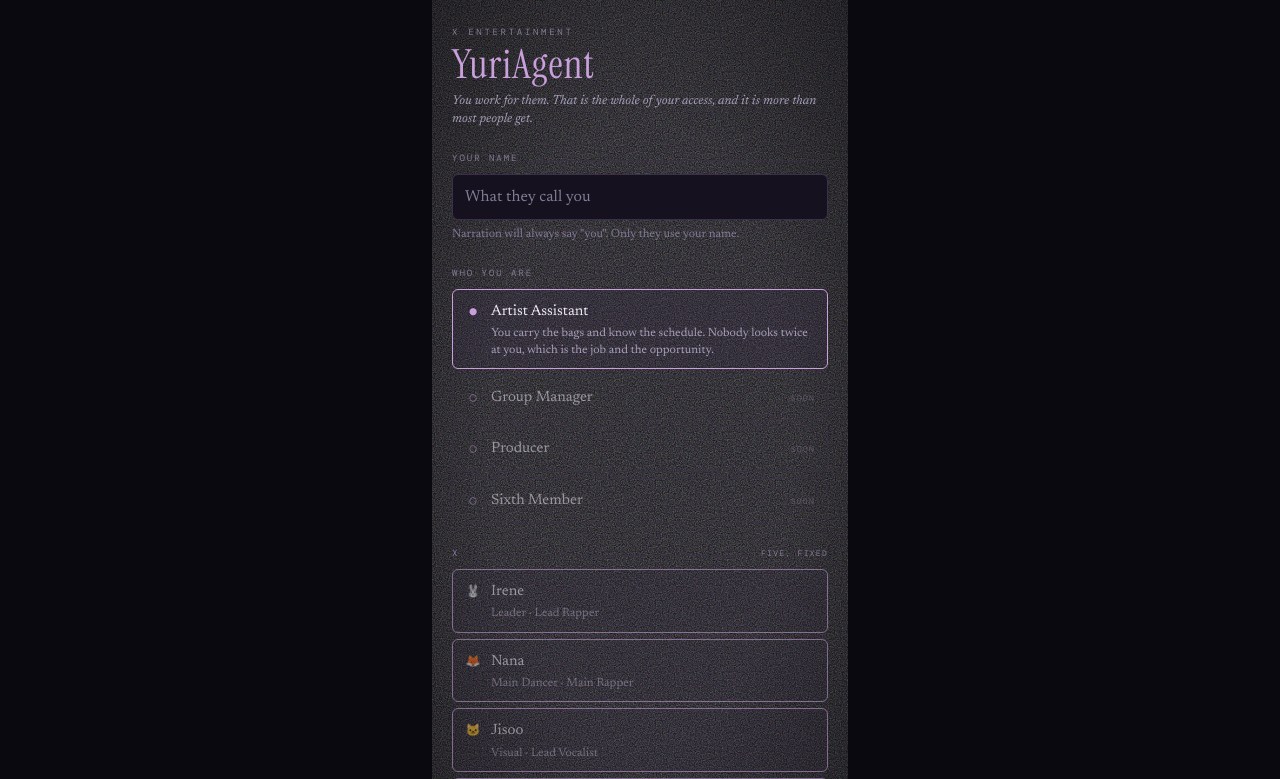
Scenario: starting a run › offers the notes from the day screen, and they open
Type "Yuhan" into the field at (640, 197), box left=452, top=174, right=828, bottom=220
(page scrolled)
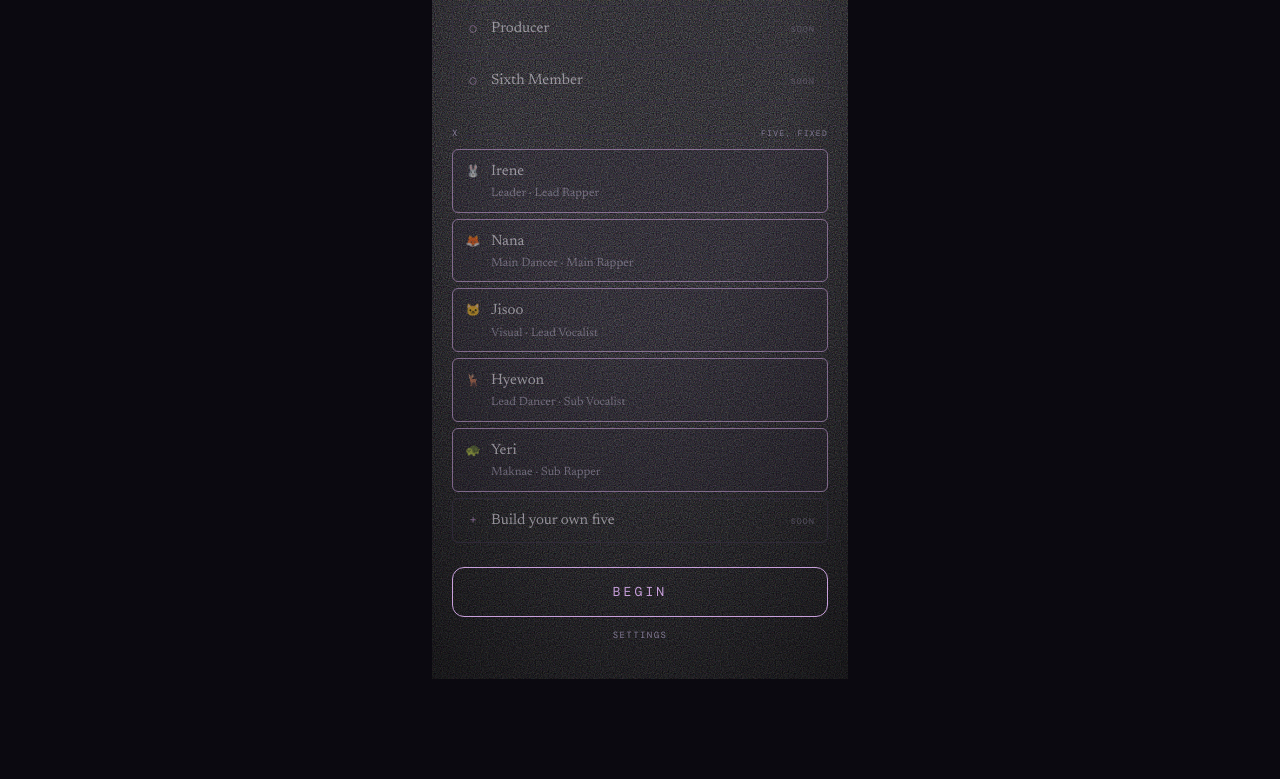
Click the button "Begin" at (640, 592), box left=452, top=567, right=828, bottom=617
(page scrolled)
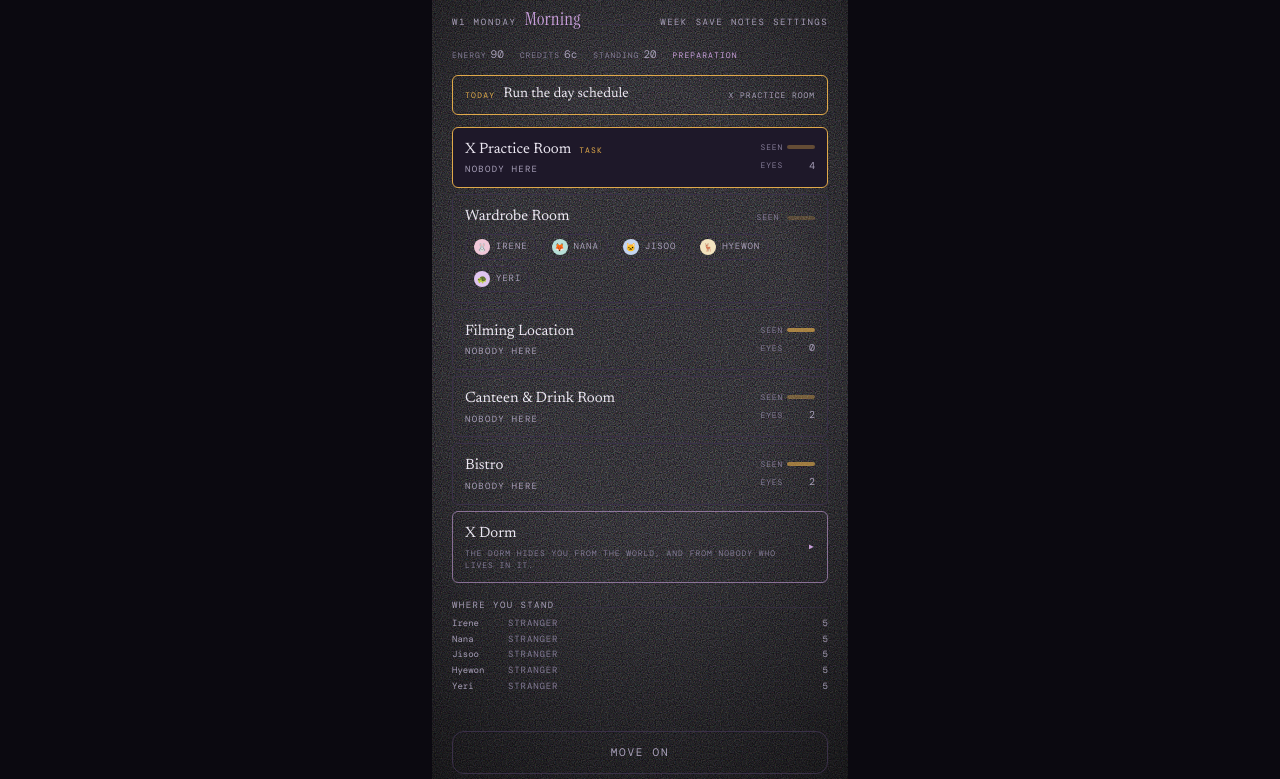
Now the button "Week" is shown, box left=660, top=16, right=688, bottom=30
Now the button "notes" is shown
Click the button "notes" at (748, 23), box left=731, top=16, right=765, bottom=30
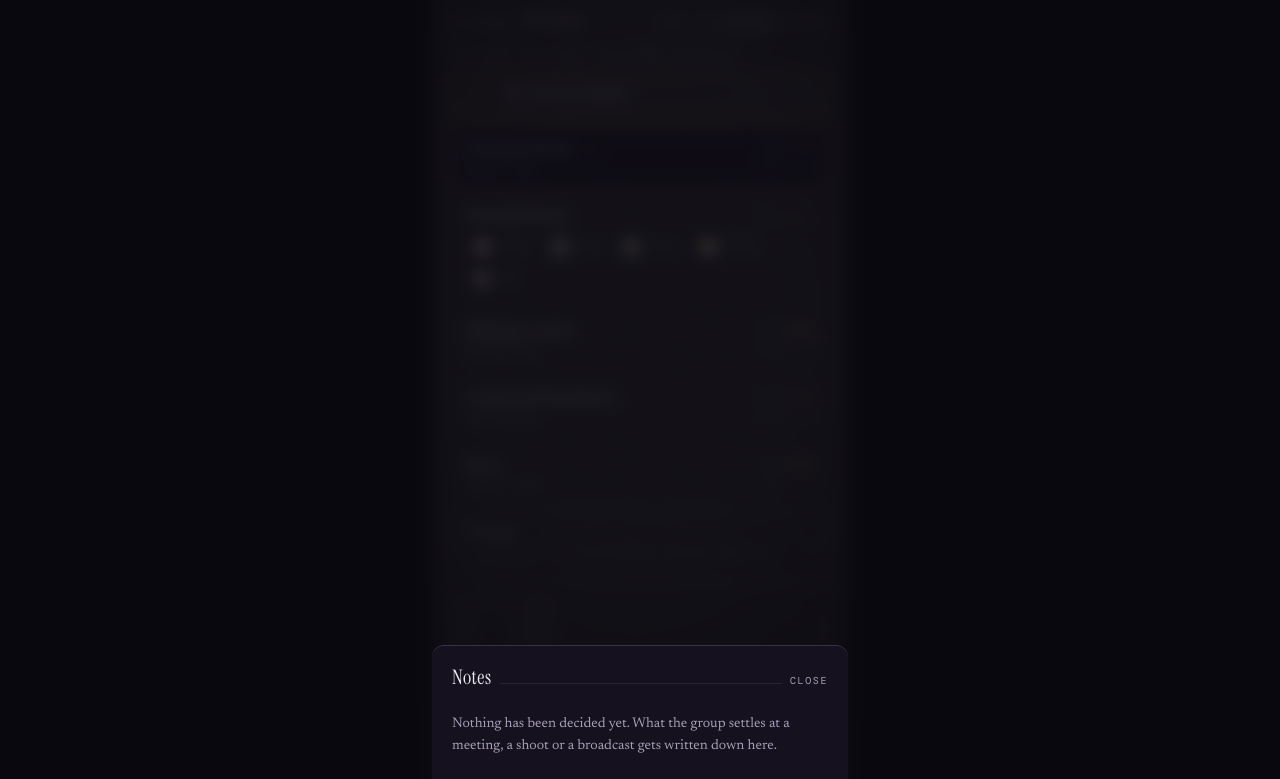
Now the text "Nothing has been decided yet. What the group settles at a meeting, a shoot or a broadcast gets written down here." is shown, box left=452, top=716, right=790, bottom=753
